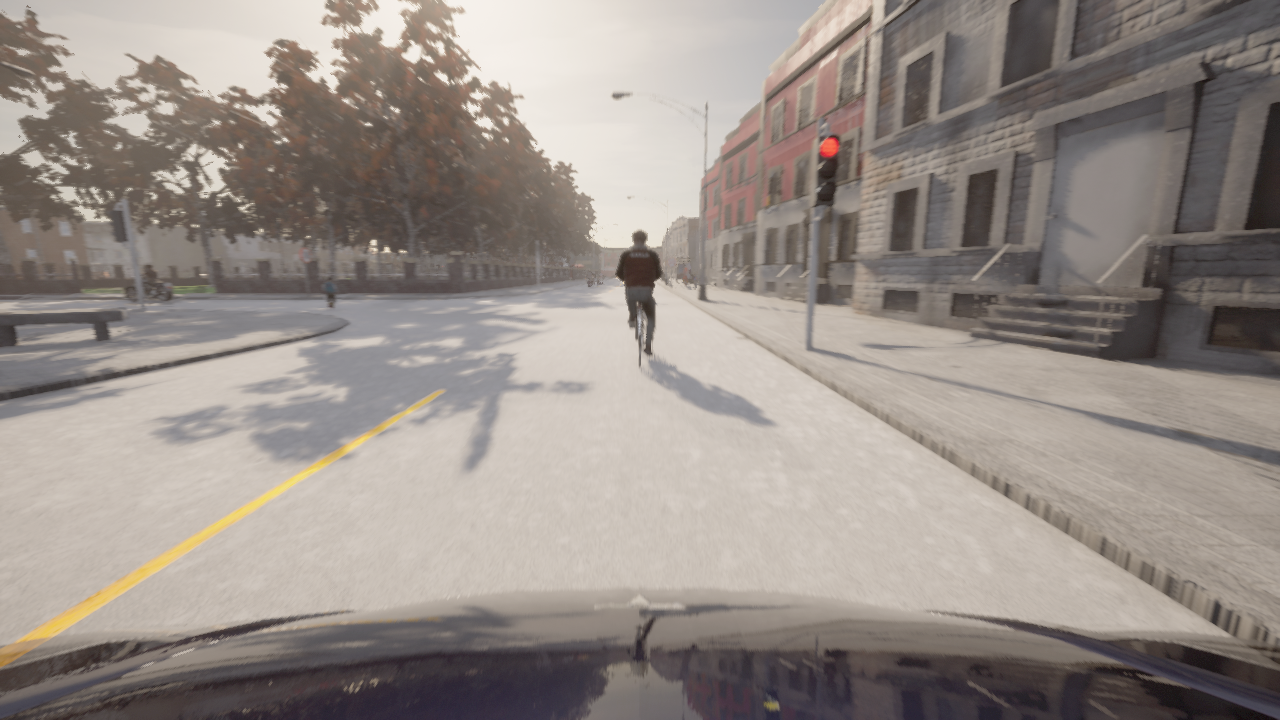cyclist: (0, 588, 1279, 719), (629, 303, 651, 366), (123, 277, 172, 301), (585, 273, 593, 288), (596, 275, 604, 284)
pedestrian: (323, 277, 337, 309), (682, 264, 689, 287), (692, 274, 696, 287)
